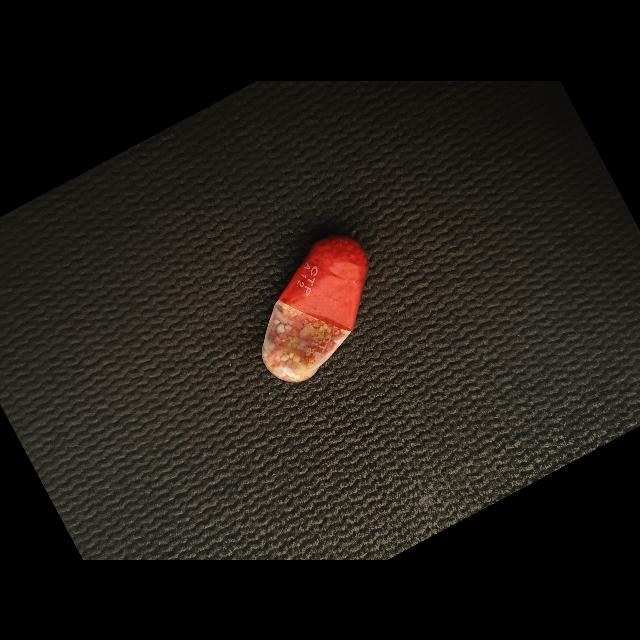Defective Capsule: (262, 234, 369, 382)
